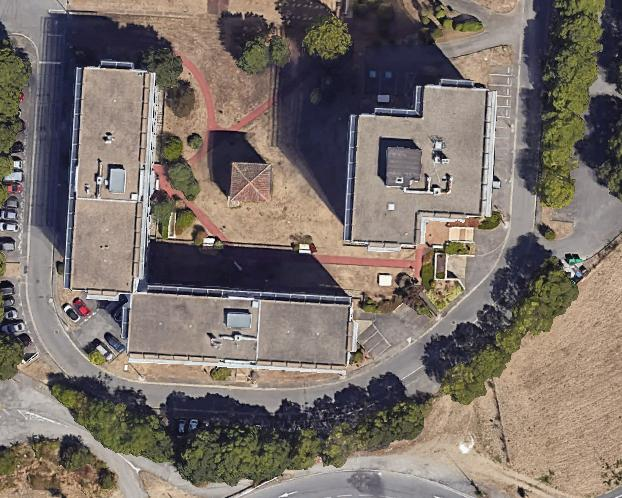immeuble: (343, 80, 496, 249), (58, 58, 161, 298), (127, 289, 356, 372)
